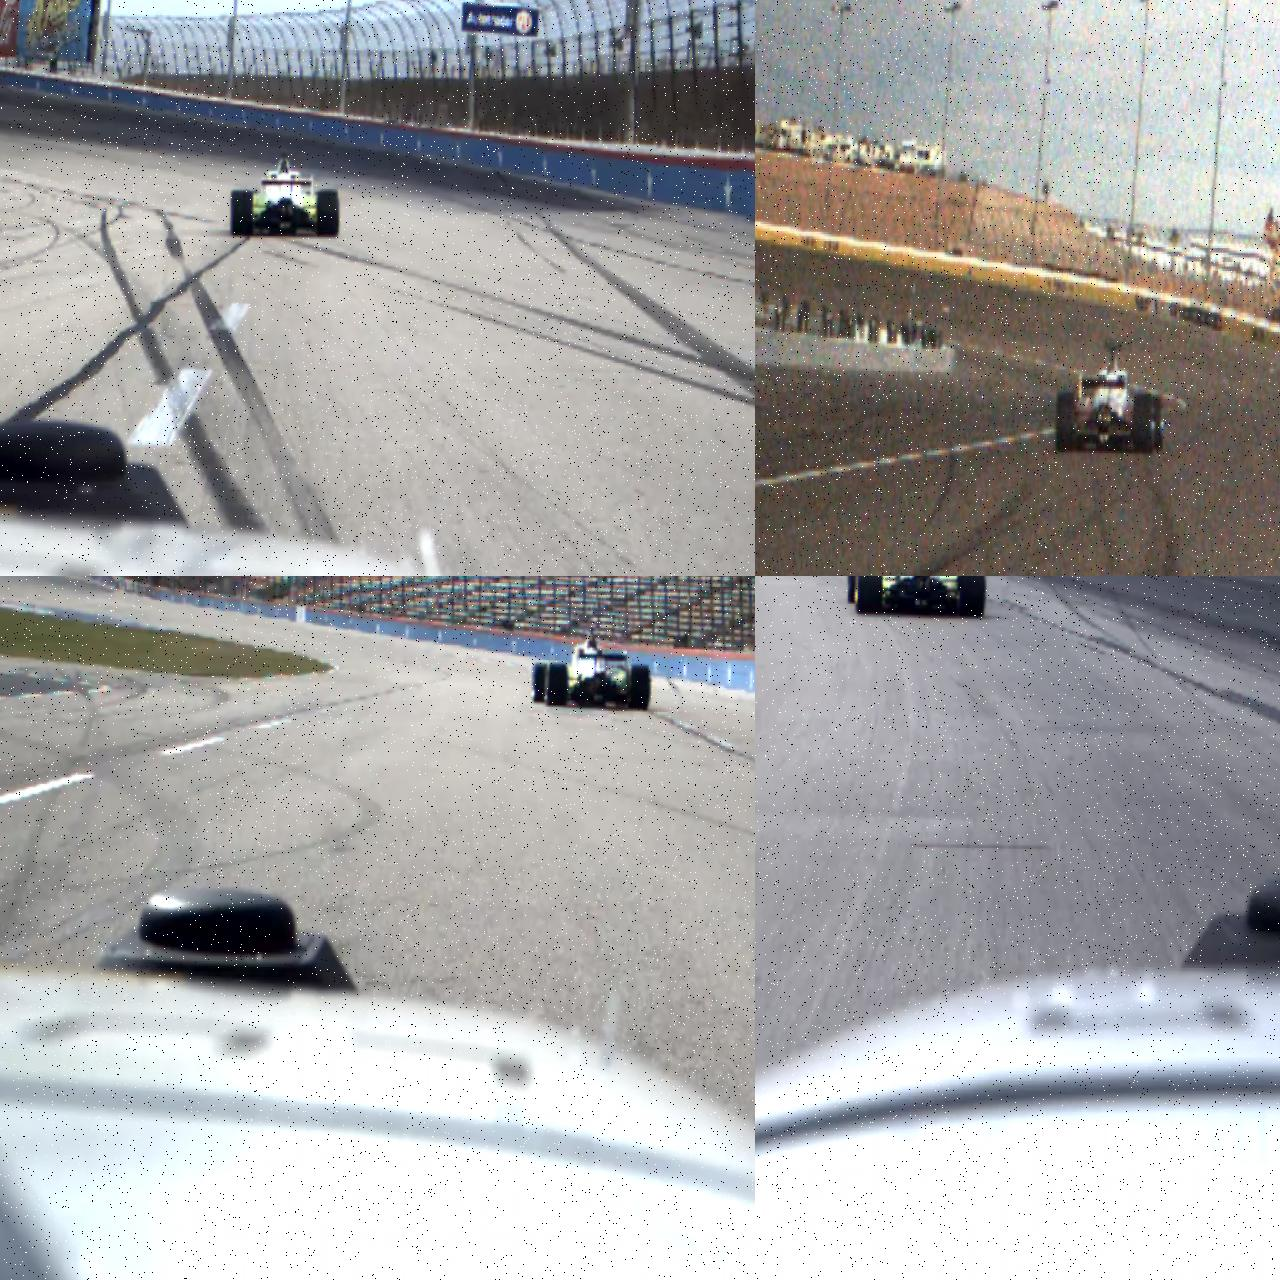AV: (1055, 338, 1166, 456), (531, 625, 653, 712), (230, 152, 341, 238), (846, 576, 987, 618)
Wheel: (1133, 392, 1155, 455), (1055, 393, 1076, 455), (958, 576, 986, 617), (316, 190, 340, 237), (855, 576, 881, 615), (231, 189, 253, 236), (631, 665, 652, 710), (547, 663, 568, 706), (1150, 396, 1164, 451), (532, 662, 551, 703), (847, 576, 866, 604)
